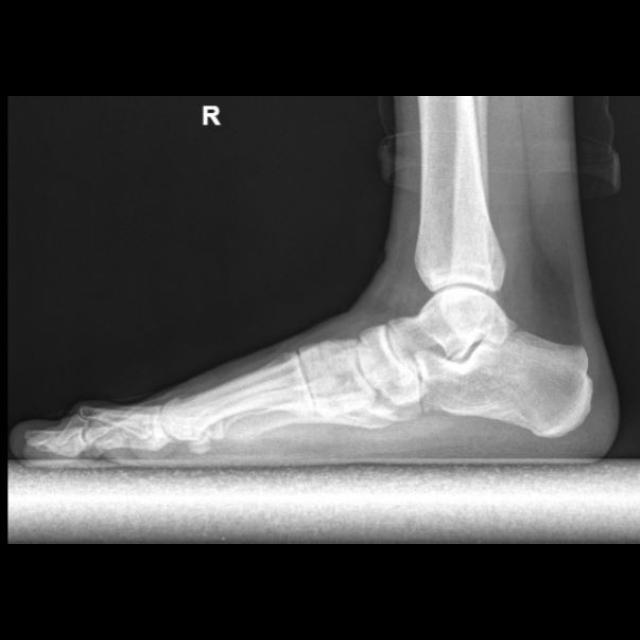a: (416, 328, 594, 436)
b: (359, 326, 430, 408)
c: (159, 352, 319, 442)
